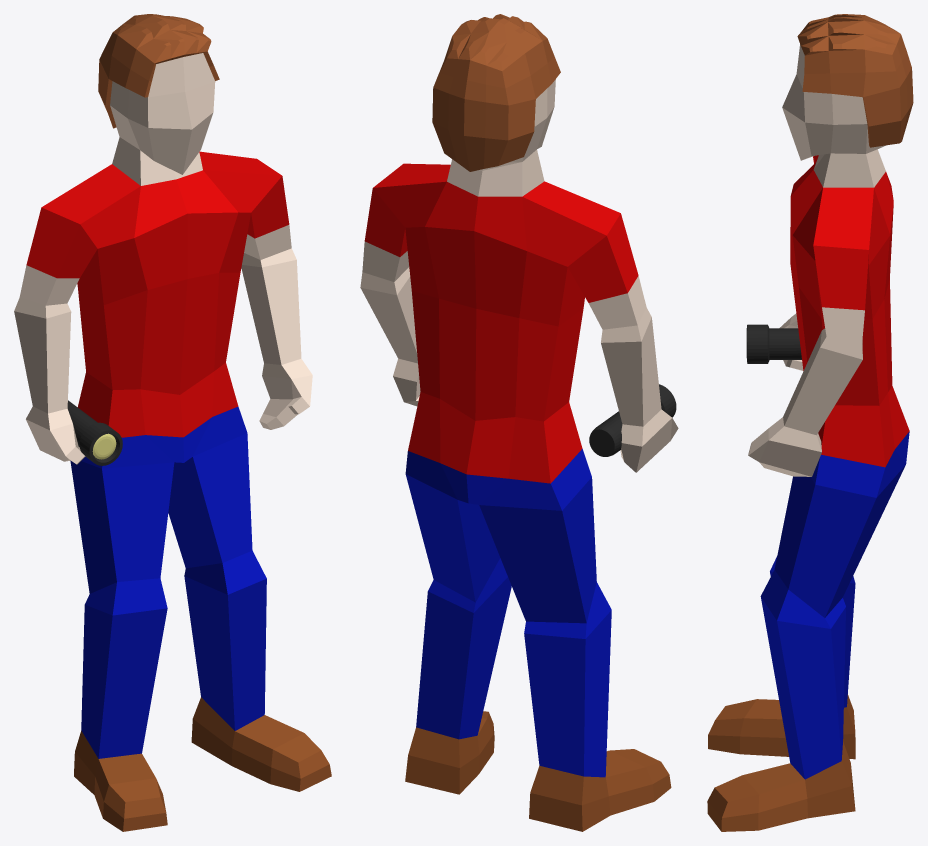
File: Human_grabbing_57.fbx
3 renders of one model, left to right at view 1: azimuth 30°, elevation 25°; view 2: azimuth 150°, elevation 25°; view 3: azimuth 270°, elevation 25°, orthographic. The views are drawn at different scales.
Visible parts, largest first — view 1: Person.003, Cylinder.002; view 2: Person.003, Cylinder.002; view 3: Person.003, Cylinder.002.
Part boxes in pixels (<box>): Person.003: <box>14,14,331,831</box>; Cylinder.002: <box>67,400,122,465</box>; Person.003: <box>360,14,678,831</box>; Cylinder.002: <box>589,384,676,456</box>; Person.003: <box>707,14,913,831</box>; Cylinder.002: <box>746,324,801,363</box>.
Size of the model in its own units: 0.5866 by 1.58 by 0.3862.
